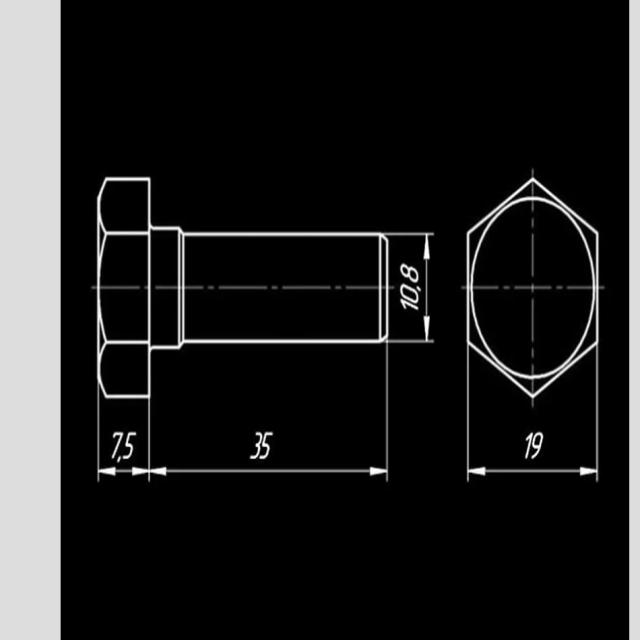marking_line: (143, 401, 391, 482), (466, 396, 599, 480), (390, 232, 435, 344), (96, 401, 153, 482)
numeric: (395, 263, 420, 281), (248, 429, 262, 460), (529, 431, 543, 460), (400, 284, 420, 304), (260, 431, 273, 460), (524, 431, 533, 460), (399, 298, 418, 311)
